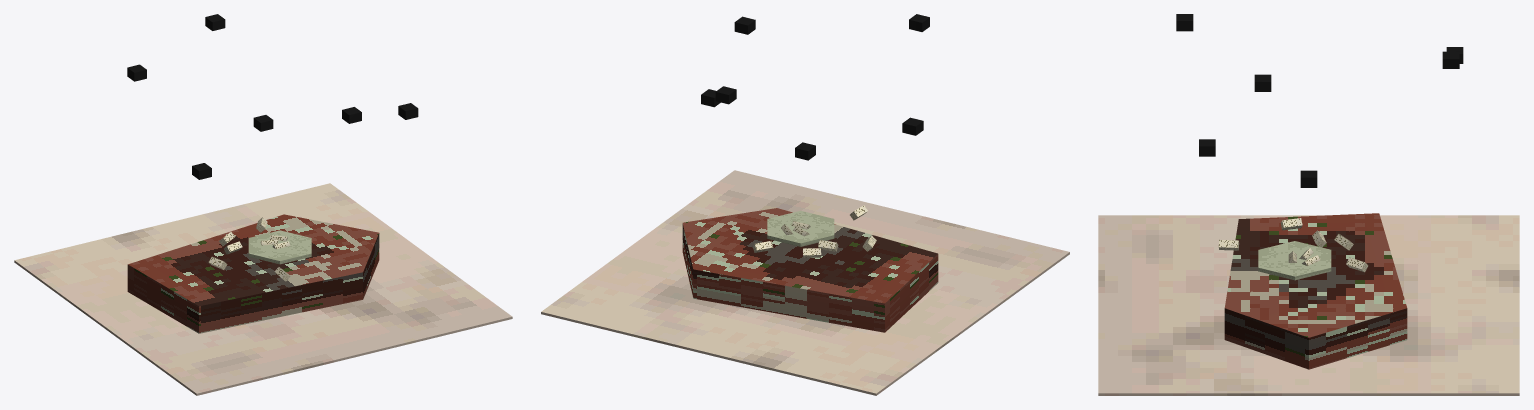
Rendered from steak_rotten.glb.
3 views of the same model, side by side, from view 1: azimuth 30°, elevation 25°; view 2: azimuth 150°, elevation 25°; view 3: azimuth 270°, elevation 25° (orthographic). The views are drawn at different scales.
Parts seen in each view (by area): view 1: steak_rotten, steak_rotten_flies; view 2: steak_rotten, steak_rotten_flies; view 3: steak_rotten, steak_rotten_flies.
Boxes of the visible parts, x1,y1,x2,y2 form: steak_rotten: (14, 183, 512, 395); steak_rotten_flies: (127, 14, 418, 179); steak_rotten: (541, 170, 1069, 395); steak_rotten_flies: (701, 14, 929, 160); steak_rotten: (1098, 213, 1519, 395); steak_rotten_flies: (1176, 14, 1463, 187).
Bounding box in the file's own units: 0.3 × 0.2035 × 0.3.
2 materials, 2 textured.
